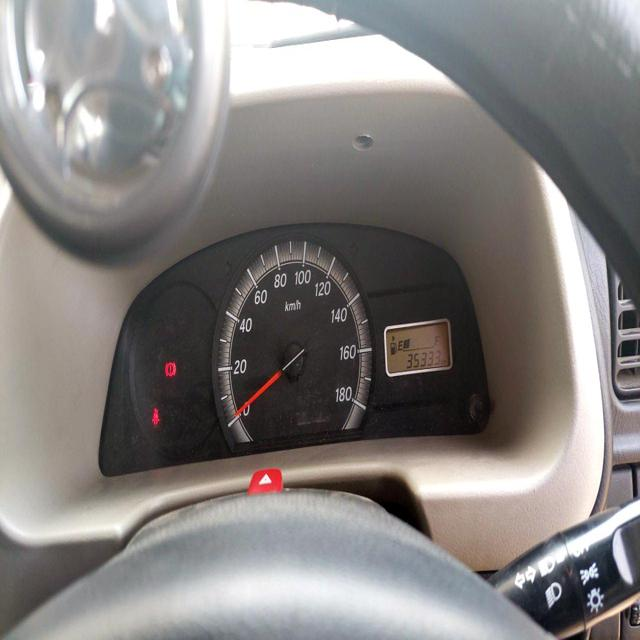odometer: (405, 346, 441, 372)
